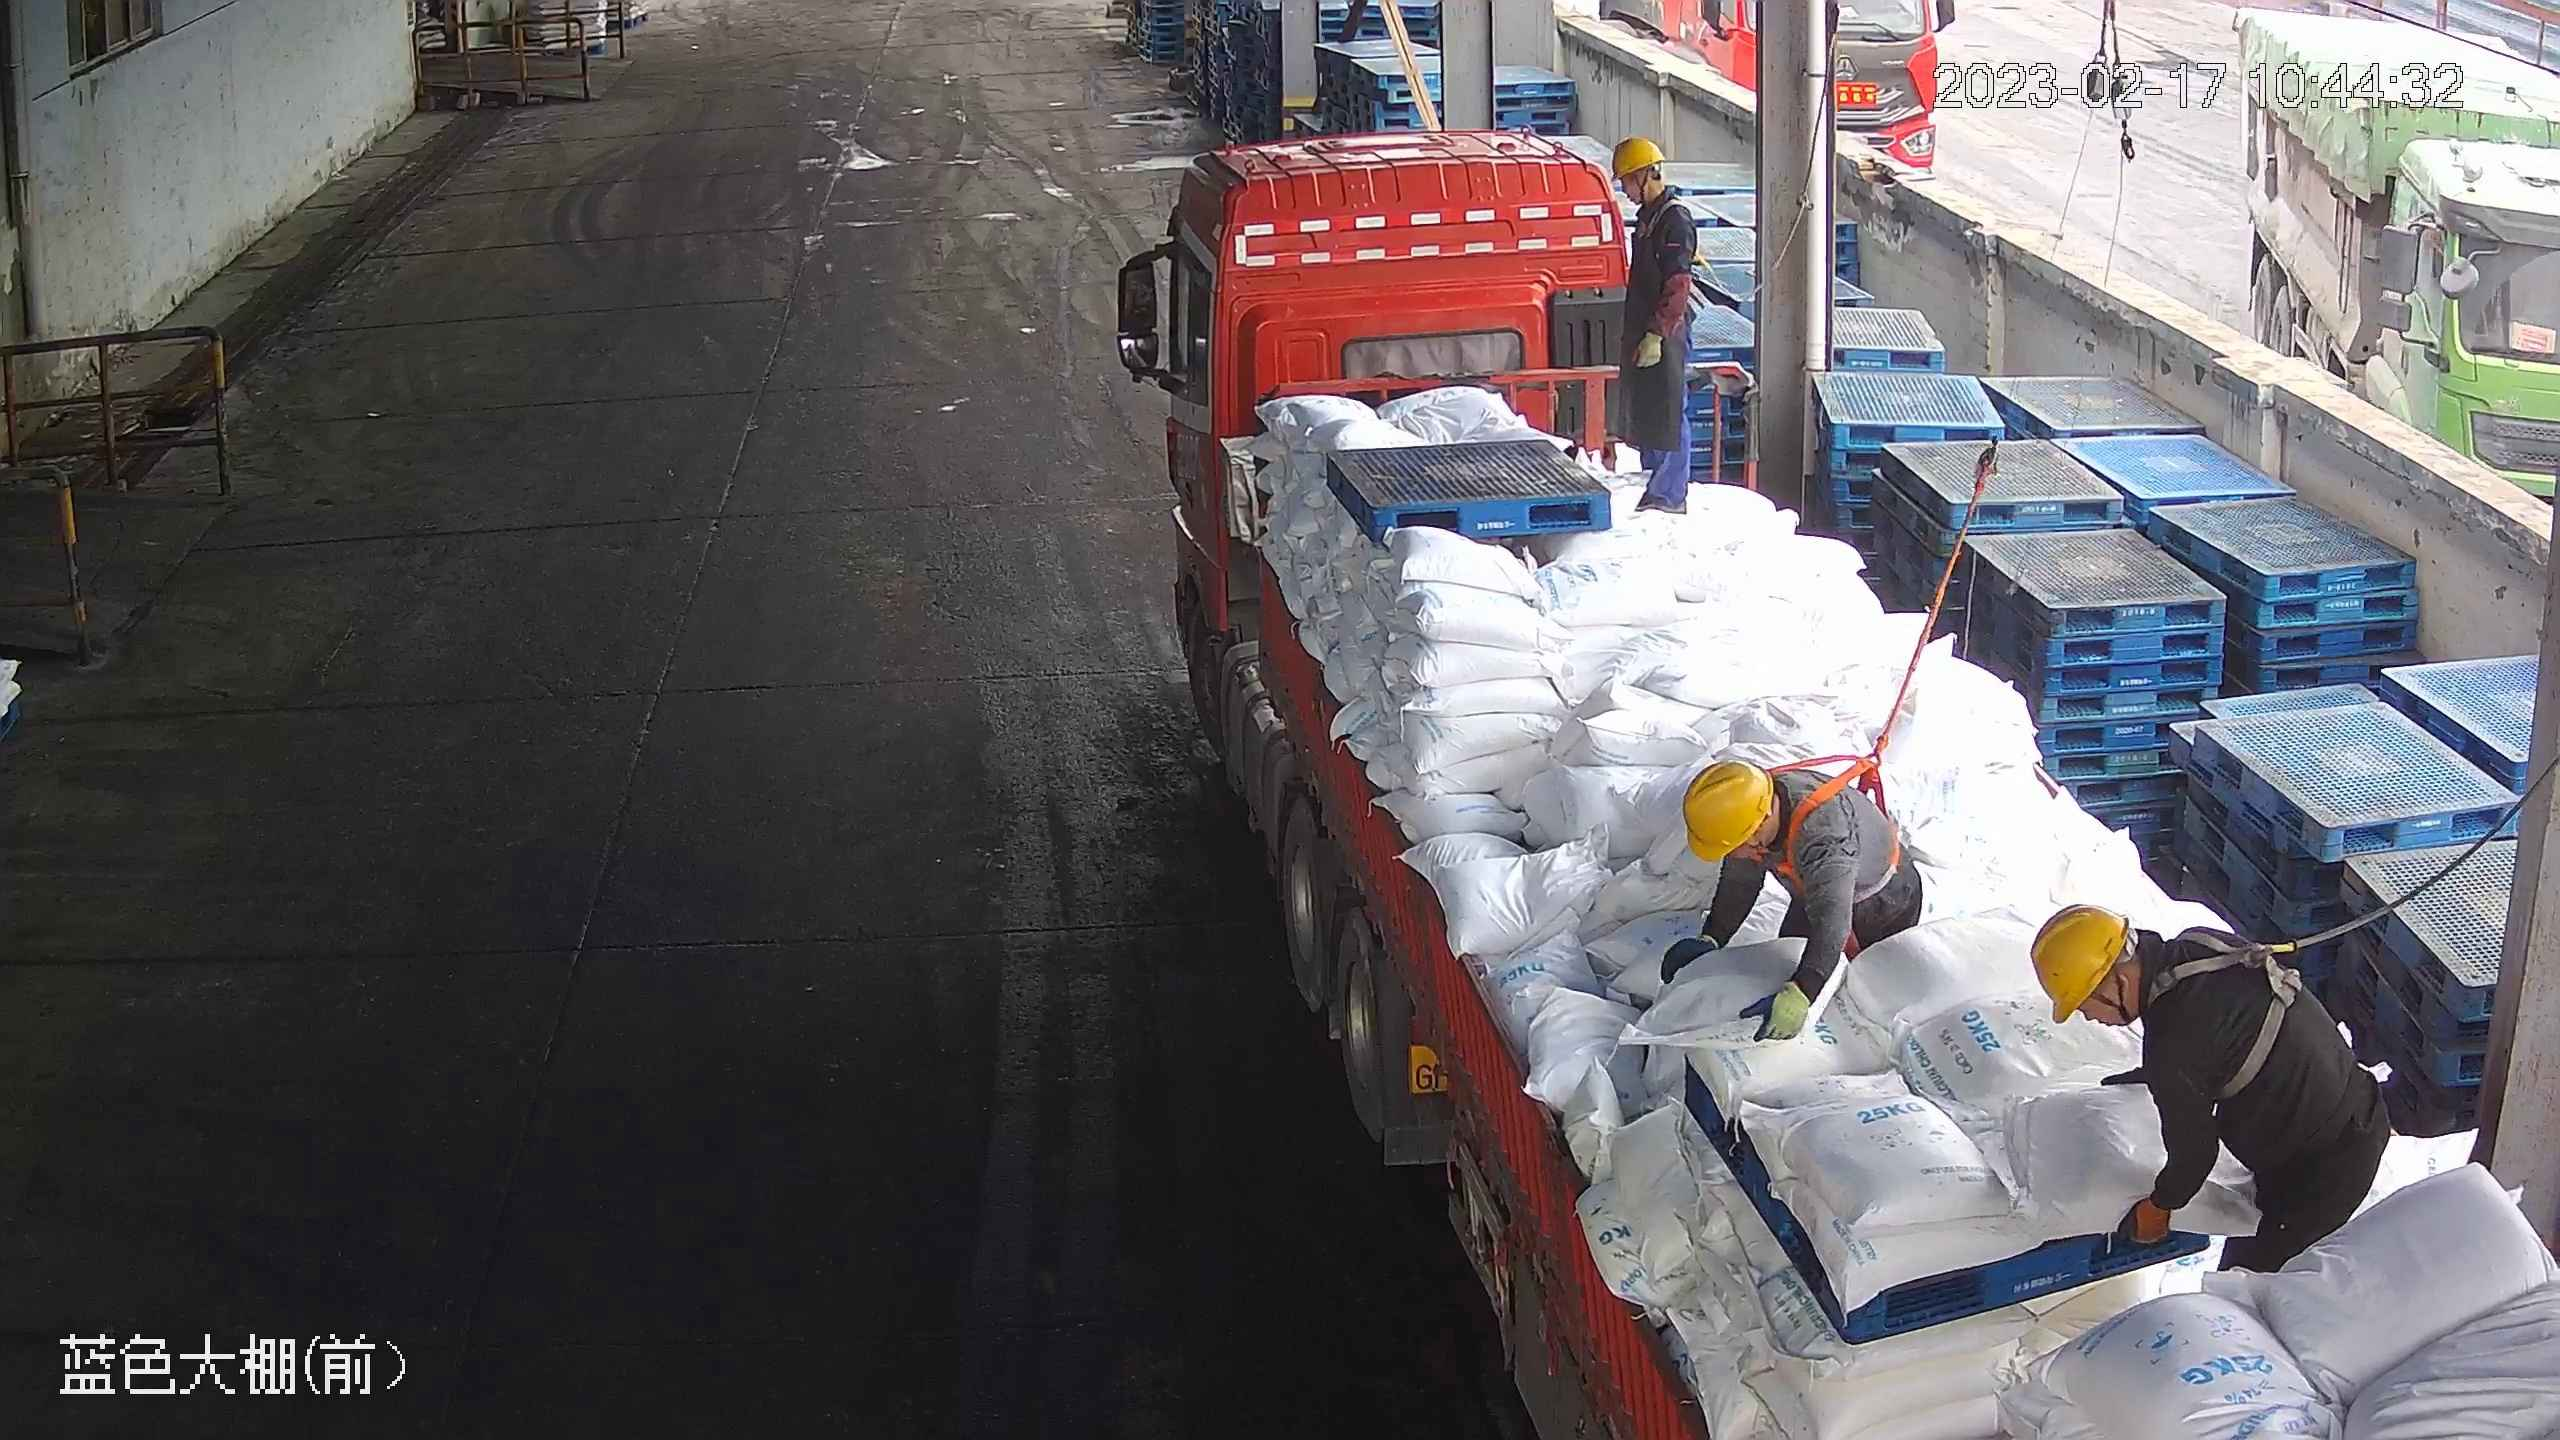belt: (2159, 908, 2320, 1106), (1767, 740, 1905, 901), (1630, 201, 1716, 275)
head: (2034, 908, 2259, 1093), (1679, 754, 1862, 915), (1601, 130, 1693, 259)
helmet: (2029, 906, 2134, 1022), (1681, 761, 1773, 866), (1608, 137, 1662, 179)
people: (2029, 903, 2391, 1262), (1656, 759, 1925, 1037), (1605, 130, 1706, 520)
truck: (1113, 123, 2560, 1440)
